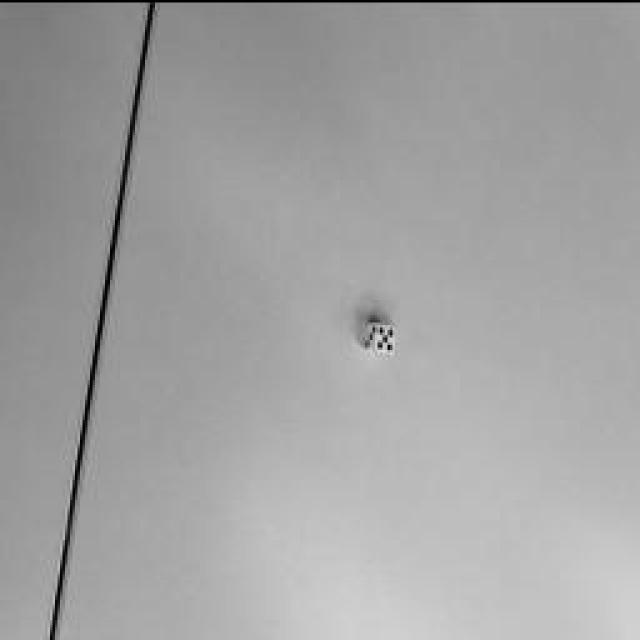dice_5: (375, 320, 395, 350)
